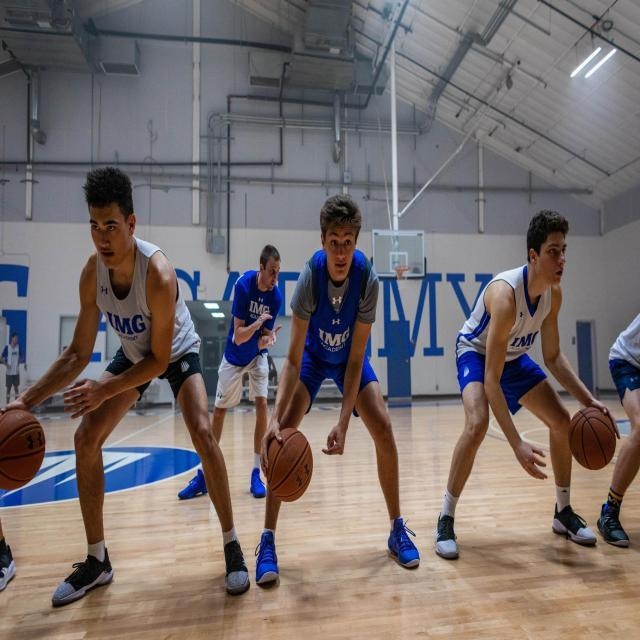Basketball: (0, 408, 46, 489), (266, 428, 314, 502), (568, 407, 616, 470)
hoop: (395, 265, 410, 284)
